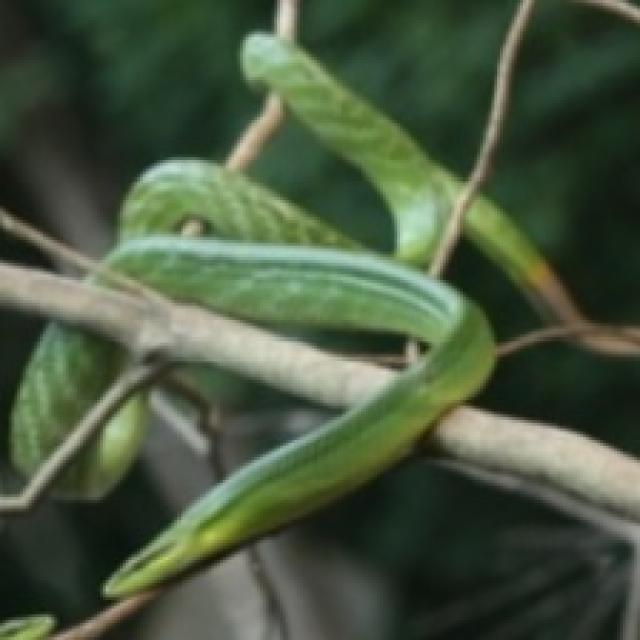red-tailed green ratsnake: (105, 36, 496, 597), (465, 196, 640, 354), (11, 324, 128, 471), (59, 395, 146, 497)
